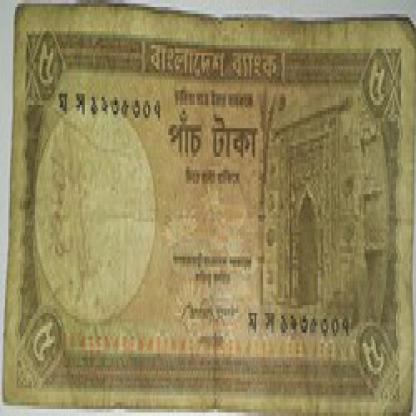Five Taka: (354, 291, 388, 399), (361, 38, 396, 118), (25, 28, 62, 100), (27, 305, 58, 381)
